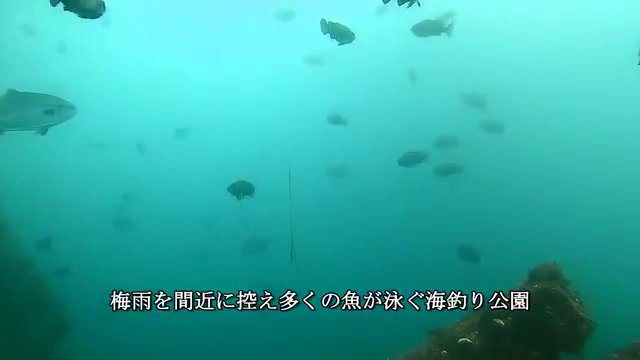smallfish: (312, 17, 359, 49), (406, 14, 458, 39), (425, 156, 471, 183), (390, 141, 429, 168), (228, 180, 260, 204)
